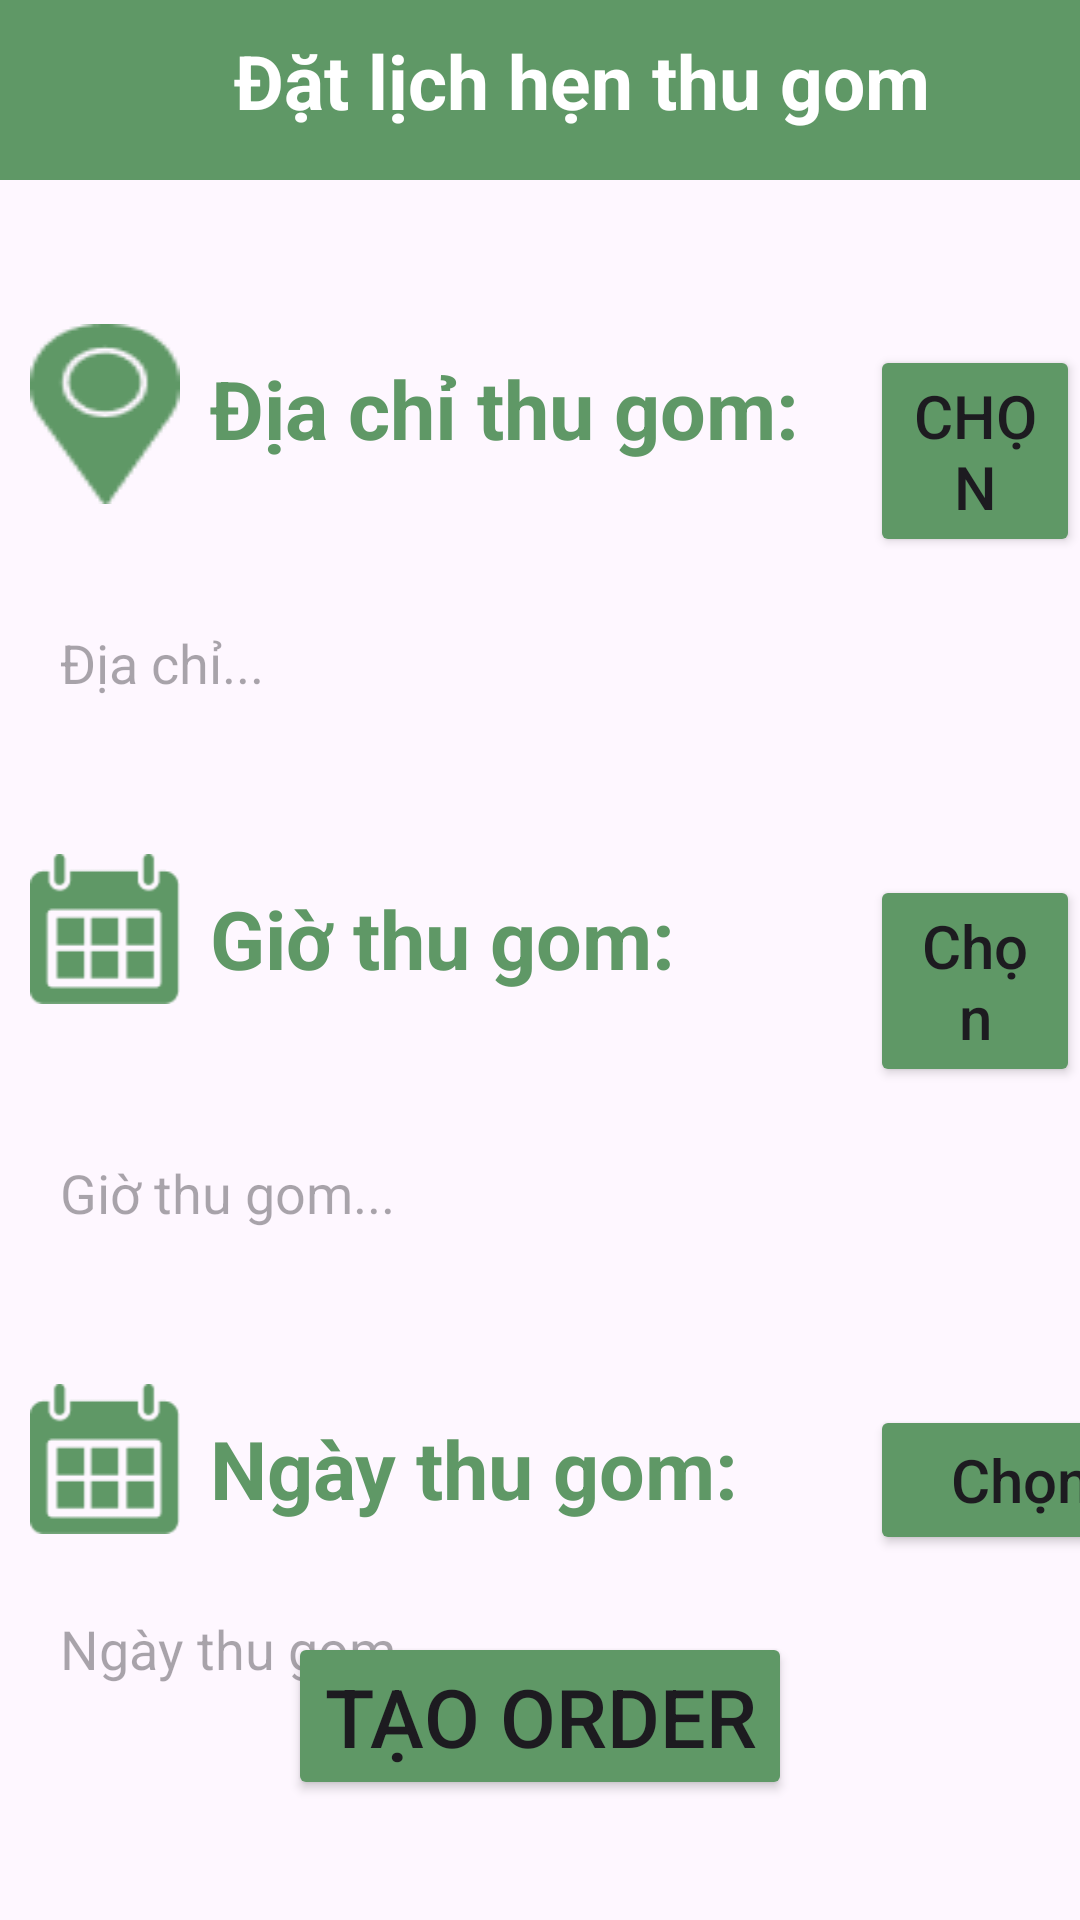

Screen size 1080w x 1920h. Icon name, then its box in pixels as (x1, y1, x2, y2):
birth: (30, 854, 179, 1004), (30, 1384, 179, 1534)
location: (30, 324, 180, 504)
